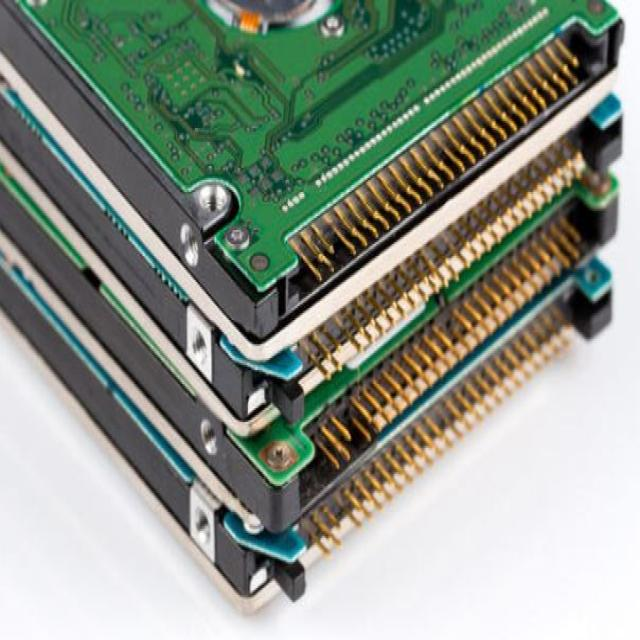electronic: (0, 0, 626, 616)
